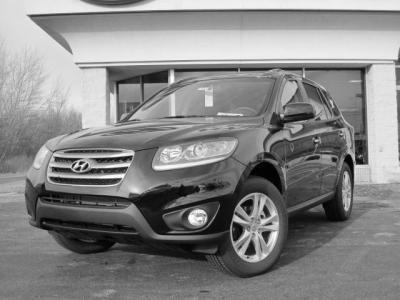car: (24, 75, 355, 276)
